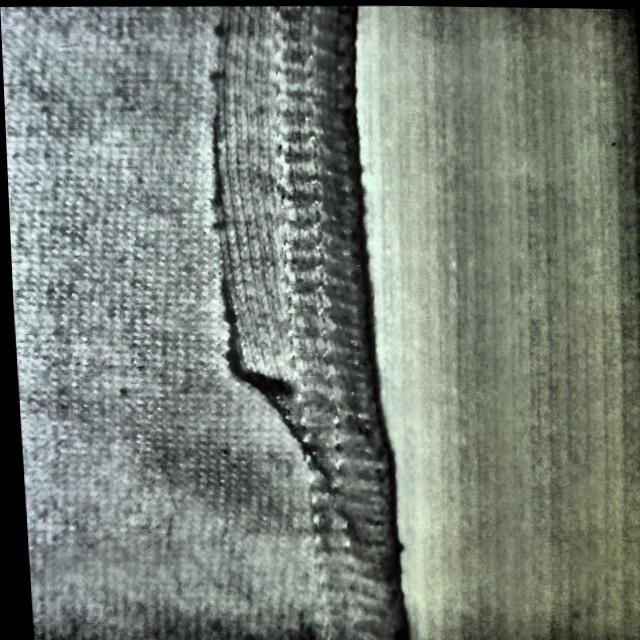seam: (163, 2, 375, 433)
